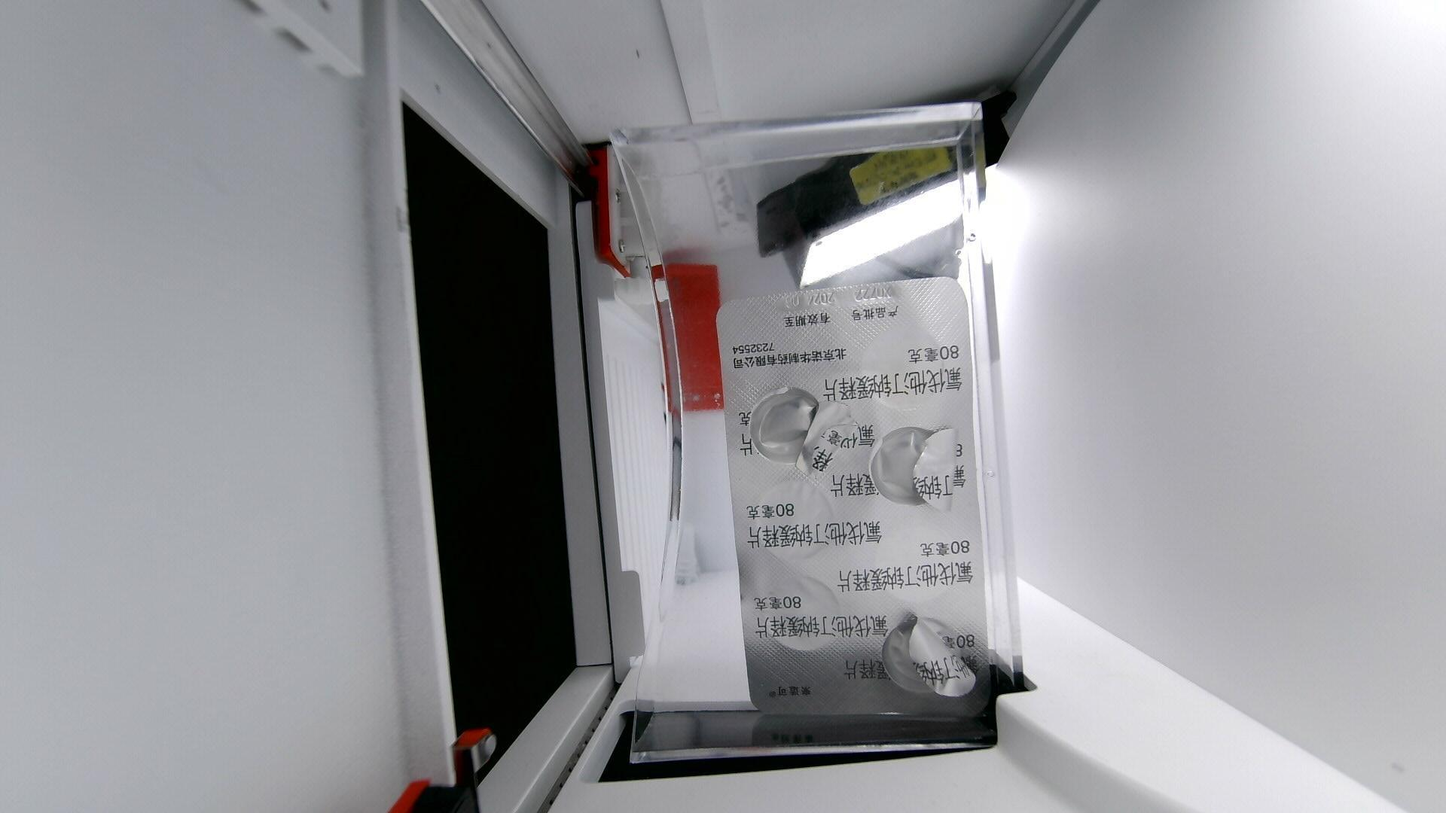No Pill Back: (737, 379, 850, 477), (874, 607, 972, 701), (863, 421, 959, 511)
Pill Back: (846, 315, 949, 407), (746, 480, 836, 556), (758, 574, 843, 651), (869, 528, 960, 599)
